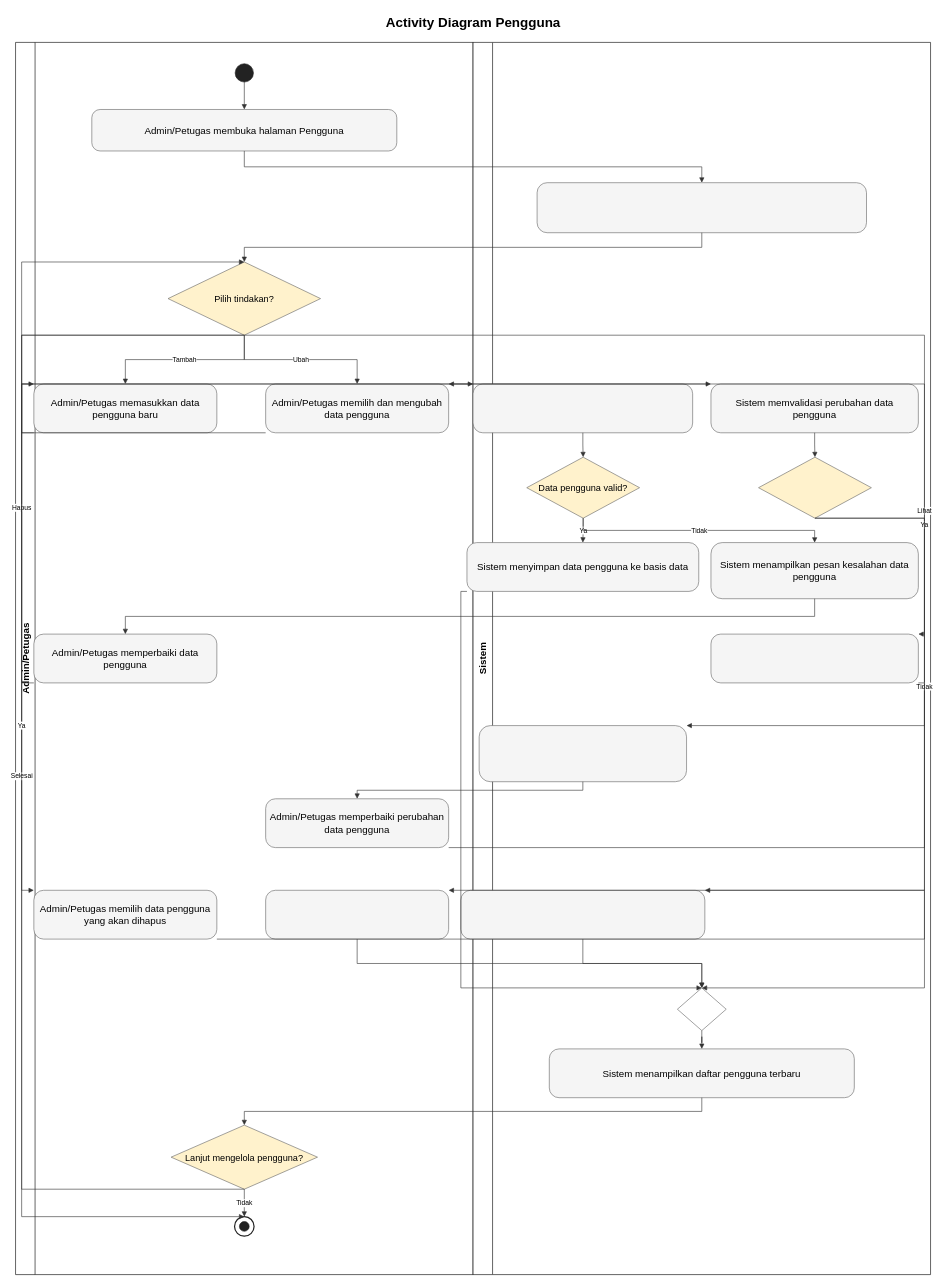
This 943x1285 diagram has some shape labels left out. The shapes that lost their labels are listed below. From the top down, each one's box as (x1, y1, x2, y2) in pixels, then its label:
(536, 182, 867, 233): Sistem menampilkan daftar nama, username, role, dan status akun
(472, 383, 693, 433): Sistem memvalidasi data pengguna baru
(758, 457, 871, 518): Perubahan valid?
(710, 633, 918, 683): Sistem menyimpan perubahan data pengguna
(479, 725, 687, 782): Sistem menampilkan pesan kesalahan perubahan
(265, 890, 449, 939): Admin/Petugas melihat data pengguna
(460, 890, 705, 939): Sistem menghapus data pengguna dari basis data
